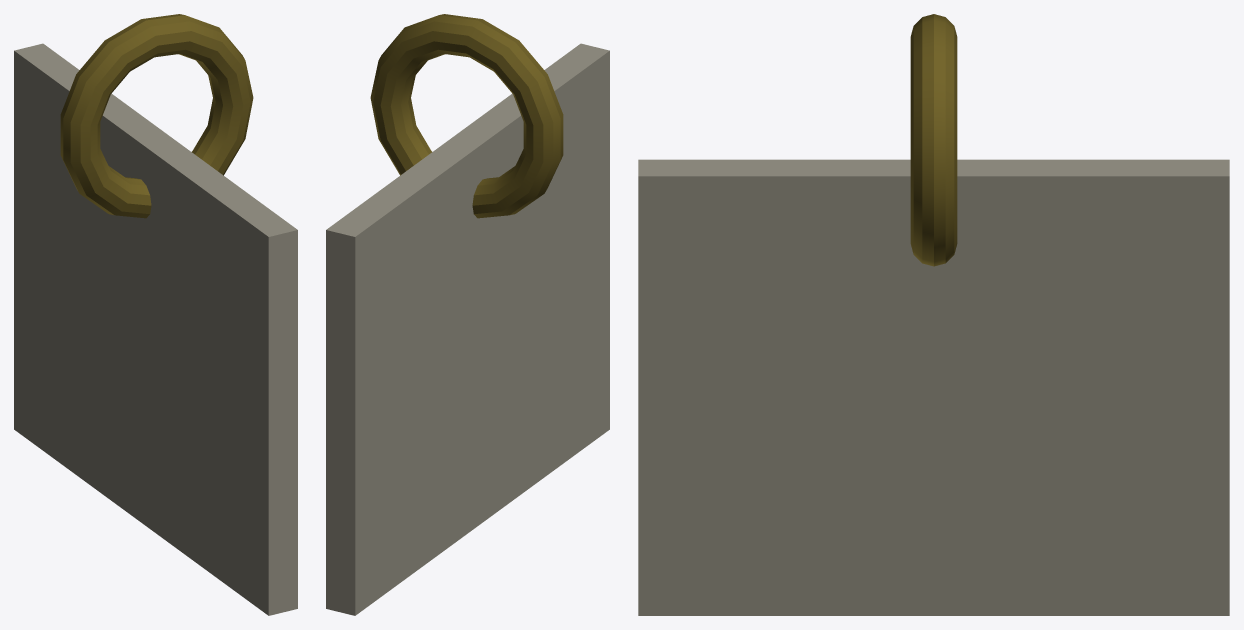
File: Leaf counter.fbx
3 renders of one model, left to right at view 1: azimuth 30°, elevation 25°; view 2: azimuth 150°, elevation 25°; view 3: azimuth 270°, elevation 25°, orthographic. The views are drawn at different scales.
Visible parts, largest first — view 1: pCube2; view 2: pCube2; view 3: pCube2.
Part boxes in pixels (bbox=[...]): pCube2: bbox=[14, 14, 297, 615]; pCube2: bbox=[326, 14, 609, 615]; pCube2: bbox=[638, 14, 1229, 615].
Size of the model in its own units: 0.1892 by 0.4833 by 0.4453.
